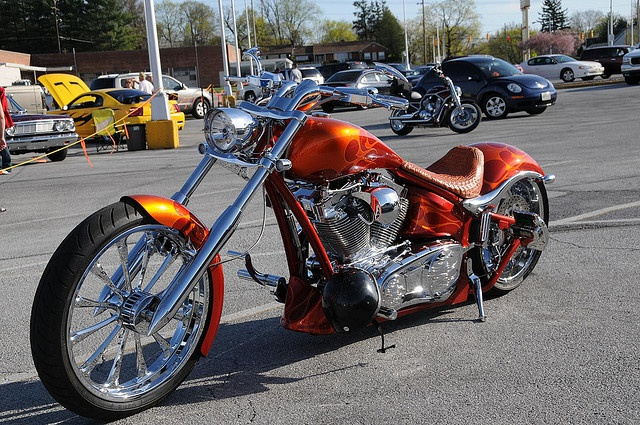non-vehicle: (29, 80, 551, 417), (367, 67, 482, 135)
